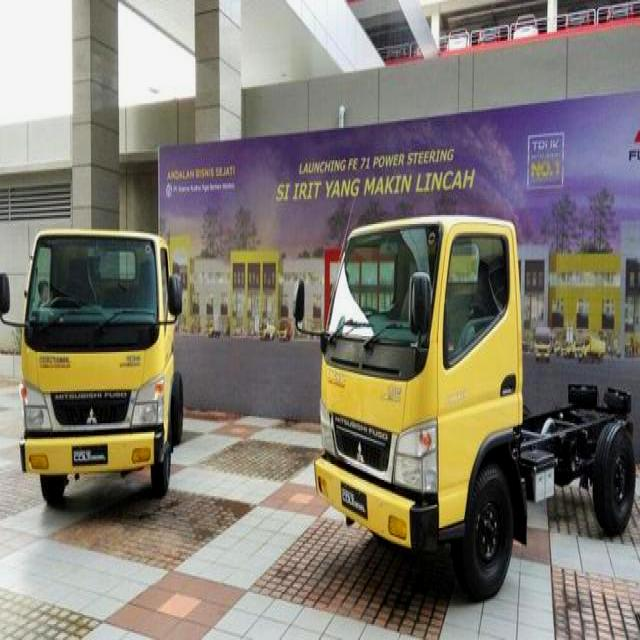truck: (293, 211, 640, 598), (1, 225, 183, 506)
